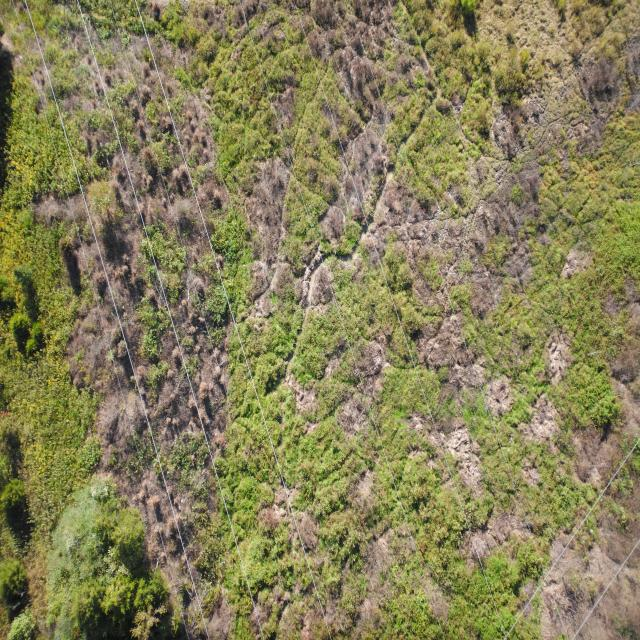Area of Interest: (52, 493, 156, 640)
